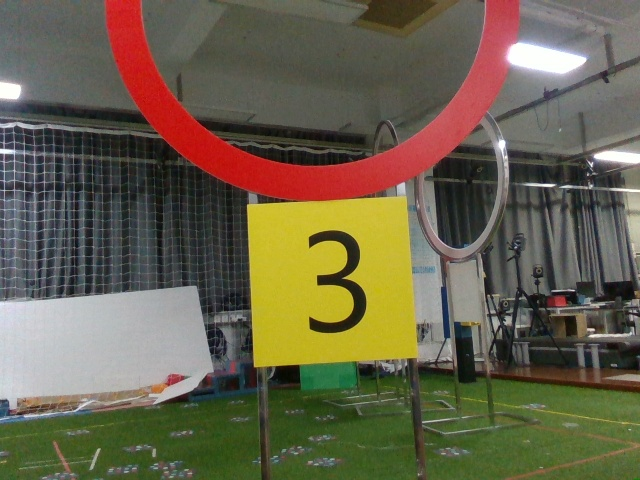target: (254, 210, 402, 356)
